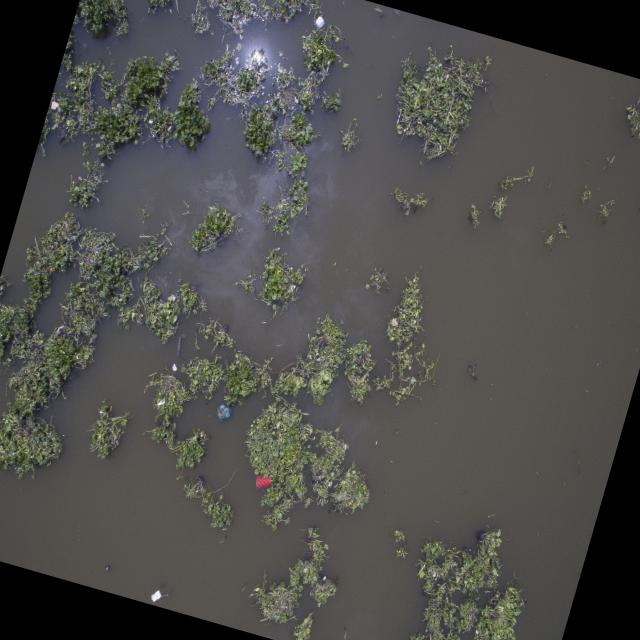Plastic: (250, 473, 280, 493), (211, 402, 234, 426), (146, 586, 164, 604), (312, 13, 326, 28), (104, 563, 112, 575)
